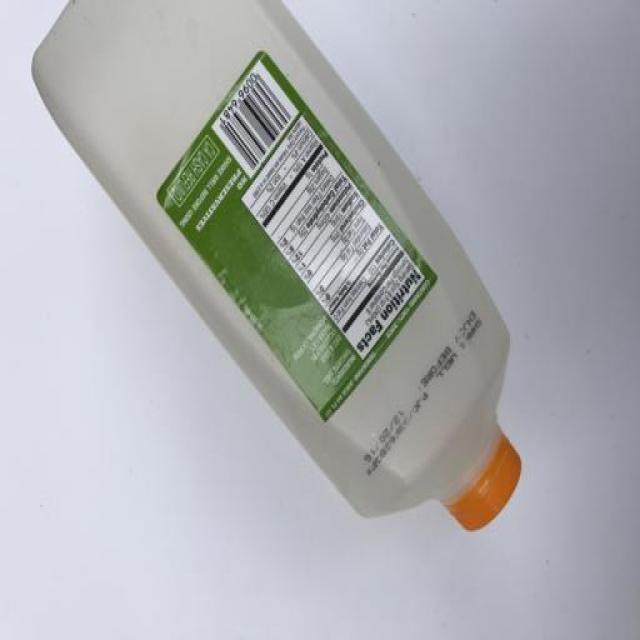plastic_bottle: (29, 1, 532, 604)
